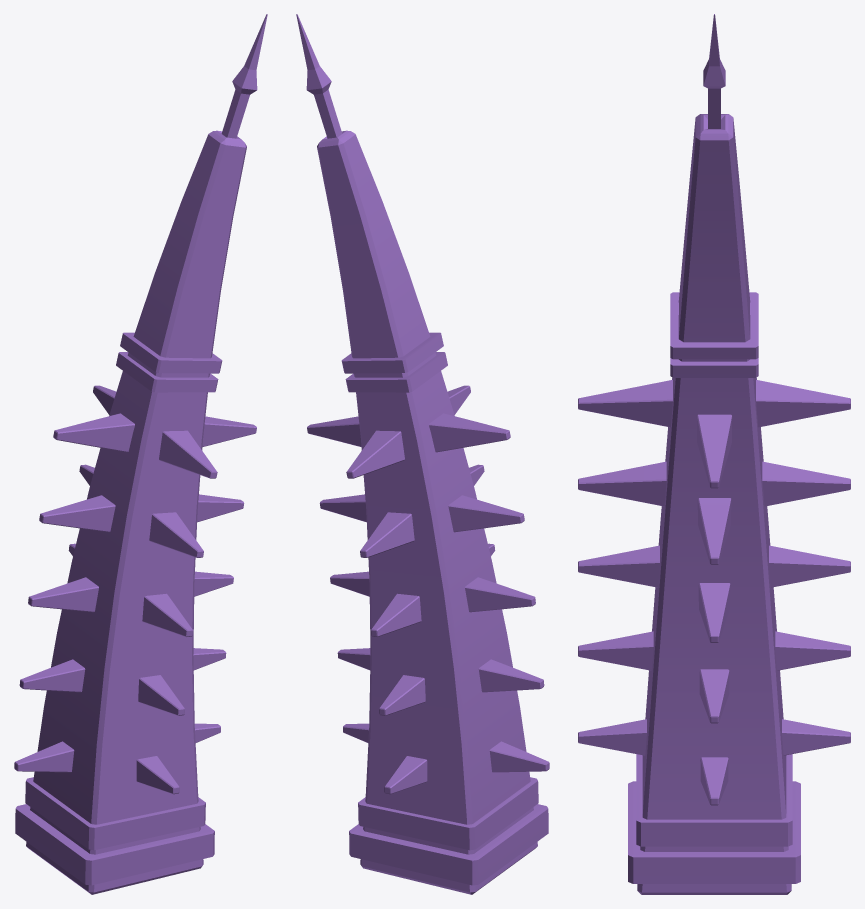
Rendered from Obelisk of Pain.fbx.
3 views of the same model, side by side, from view 1: azimuth 30°, elevation 25°; view 2: azimuth 150°, elevation 25°; view 3: azimuth 270°, elevation 25° (orthographic). The views are drawn at different scales.
Parts seen in each view (by area): view 1: Obelisk of pain; view 2: Obelisk of pain; view 3: Obelisk of pain.
Boxes of the visible parts, box(x1,y1,x2,y2) form: Obelisk of pain: box(14, 14, 267, 894); Obelisk of pain: box(296, 14, 549, 894); Obelisk of pain: box(578, 14, 850, 894).
Size of the model in its own units: 6.52 by 19.99 by 5.28.
